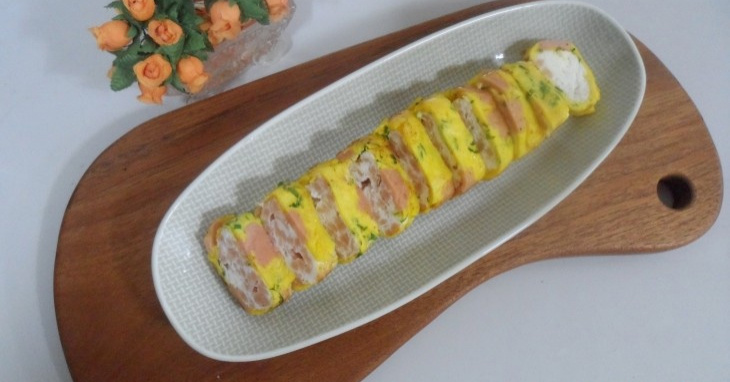gyelanmal-i: (198, 27, 604, 333)
